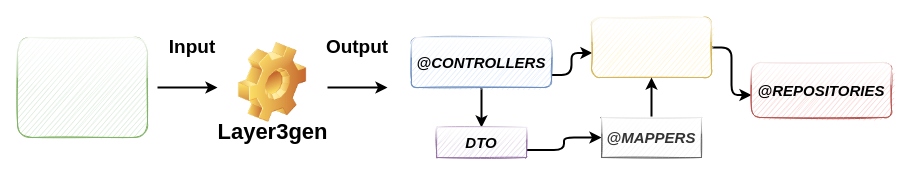
The diagram is 909 pixels wide and 176 high, and some of its shapes have lost their labels. Here are the shapes that lost their labels. From the top down, the box of each, then its label:
(590, 16, 712, 78): @SERVICES
(16, 36, 148, 138): JPA @Entity Classes
